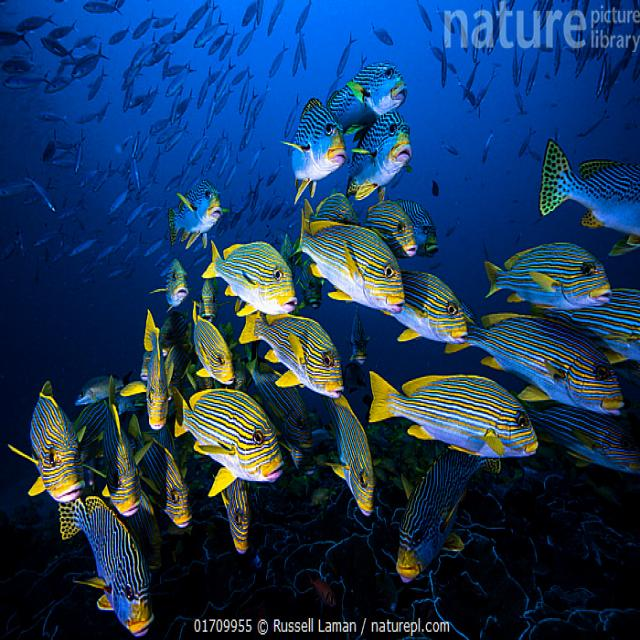RibbonedSweetlips: (445, 313, 625, 417), (368, 370, 538, 458), (396, 446, 501, 584), (59, 498, 155, 638), (172, 383, 284, 498), (291, 208, 405, 314), (8, 380, 86, 502), (238, 314, 344, 399), (484, 241, 612, 309), (201, 239, 297, 316), (322, 394, 378, 517), (381, 269, 468, 344)
